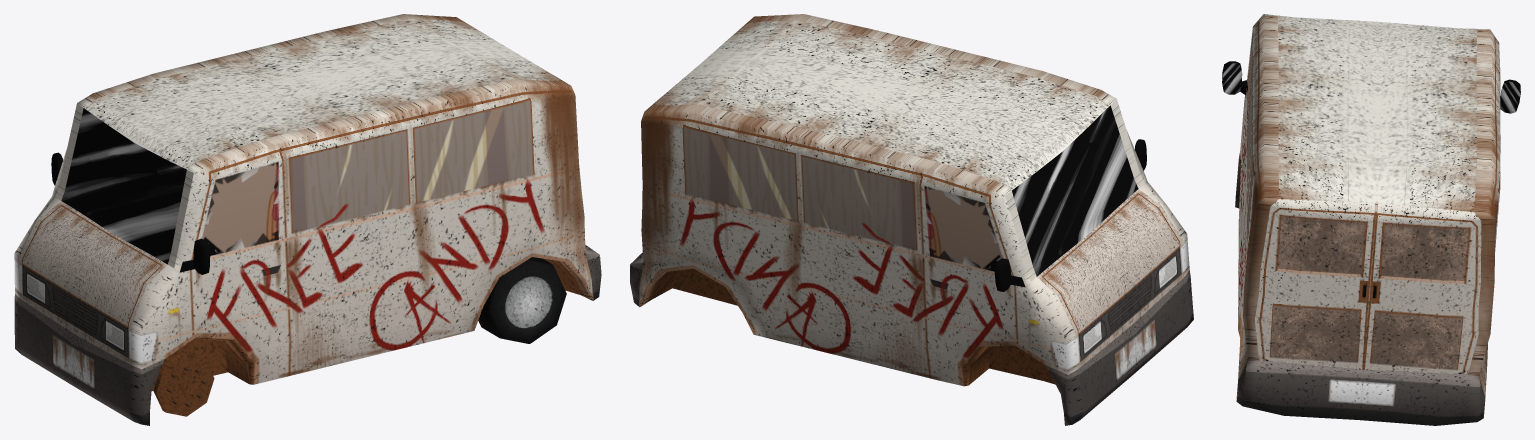
Rendered from Van_Mesh.fbx.
3 views of the same model, side by side, from view 1: azimuth 30°, elevation 25°; view 2: azimuth 150°, elevation 25°; view 3: azimuth 270°, elevation 25° (orthographic). The views are drawn at different scales.
Visible parts, largest first — view 1: VanMesh; view 2: VanMesh; view 3: VanMesh.
Part boxes in pixels (box(x1,y1,x2,y2)): VanMesh: box(14, 14, 601, 425); VanMesh: box(630, 14, 1193, 425); VanMesh: box(1222, 14, 1520, 425).
Bounding box in the file's own units: 6.31 × 3.31 × 3.59.
